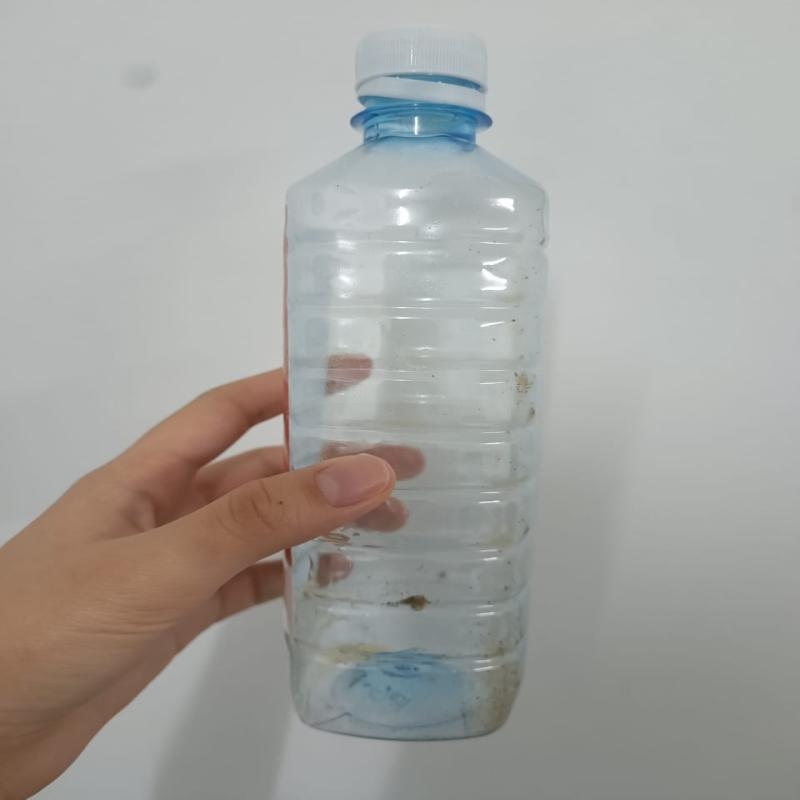botella: (270, 26, 558, 744)
